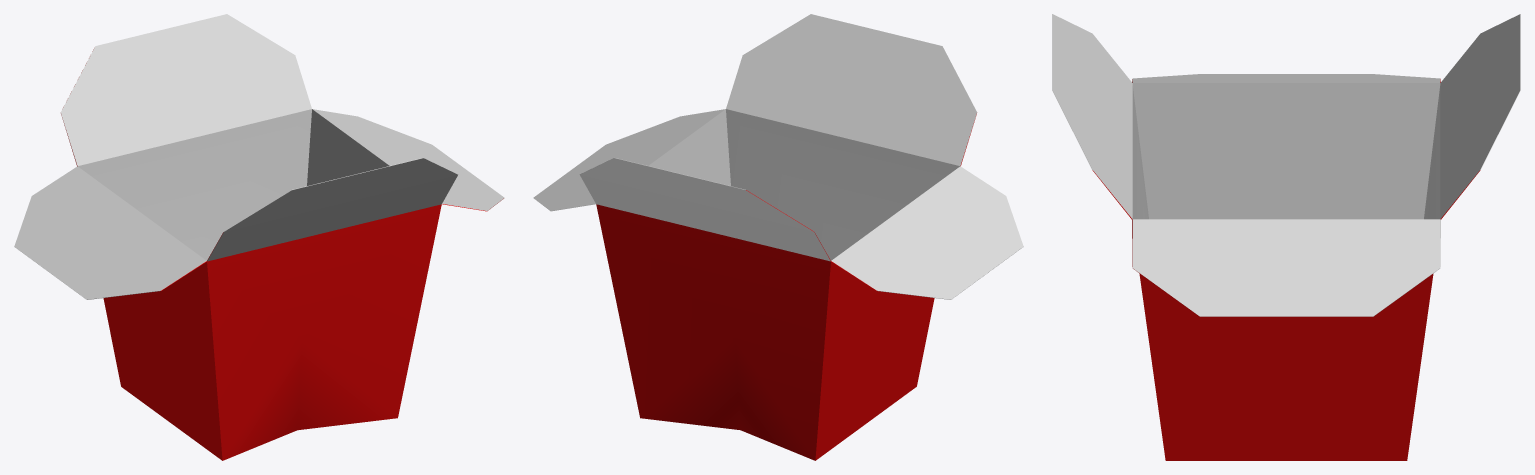
The model's file is Kaaganpopcorn.fbx.
3 views of the same model, side by side, from view 1: azimuth 30°, elevation 25°; view 2: azimuth 150°, elevation 25°; view 3: azimuth 270°, elevation 25° (orthographic). The views are drawn at different scales.
Parts seen in each view (by area): view 1: Food_Container; view 2: Food_Container; view 3: Food_Container.
Part boxes in pixels (box(x1,y1,x2,y2)): Food_Container: box(14, 14, 504, 460); Food_Container: box(533, 14, 1023, 460); Food_Container: box(1052, 14, 1520, 460).
Bounding box in the file's own units: 2.52 × 1.73 × 2.05.
